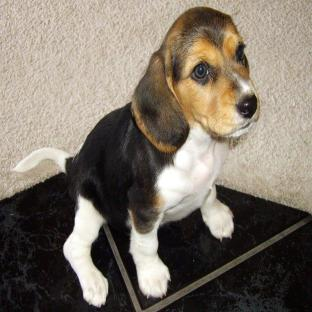Animal: (12, 7, 259, 307)
